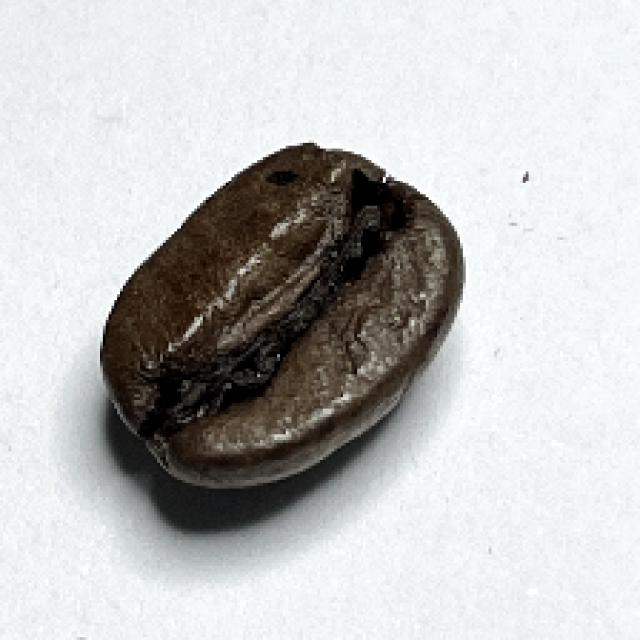bean: (97, 141, 462, 488)
